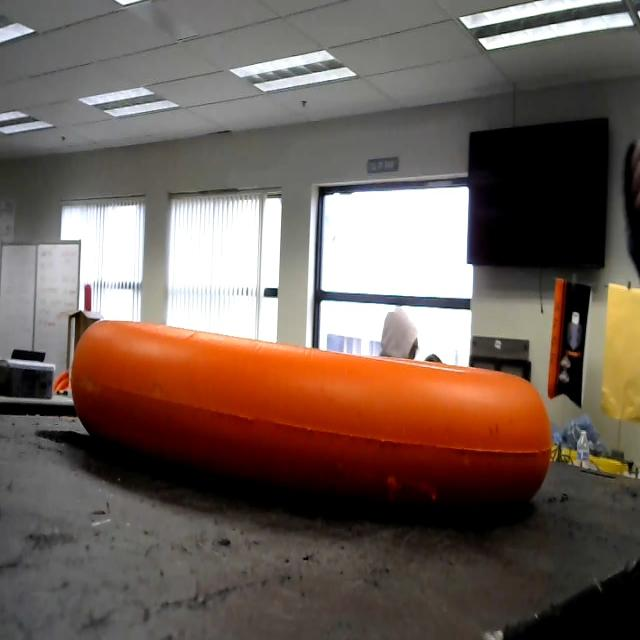note: (73, 300, 556, 534)
